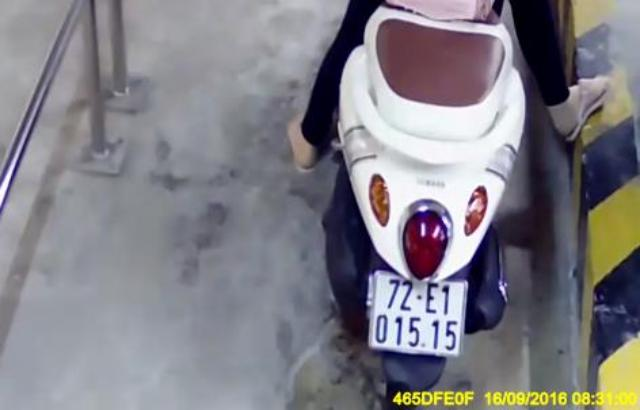plate: (362, 269, 473, 363)
